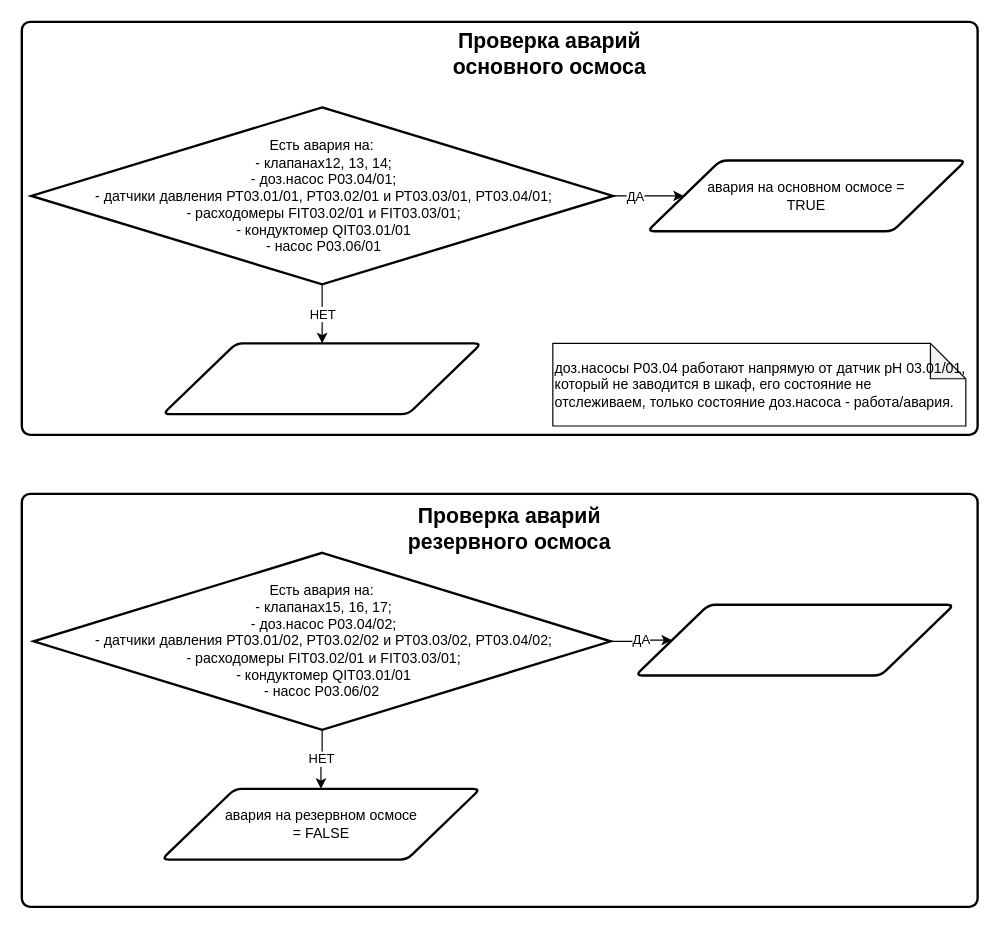
Some shapes in this 998 by 927 pixel diagram are drawn without their labels. The box of each missing label's shape, as (x1, y1, x2, y2) in pixels:
авария на основном осмосе = FALSE: (161, 342, 482, 415)
авария на резервном осмосе = TRUE: (634, 603, 955, 676)
